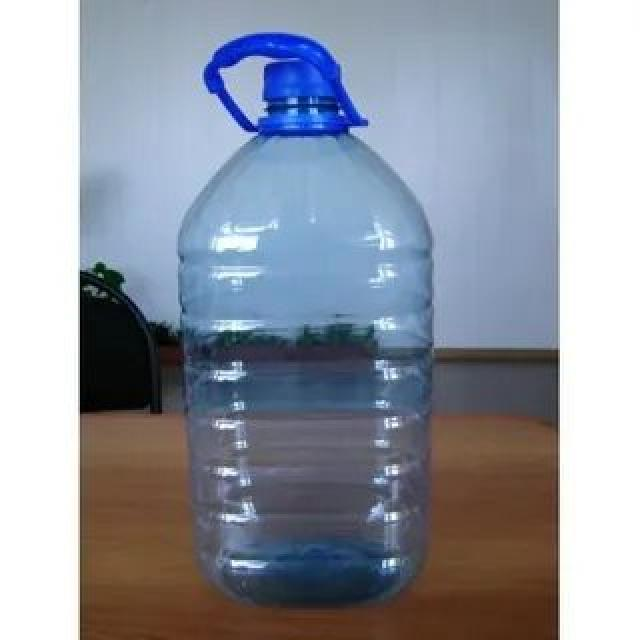blue: (180, 135, 437, 607)
